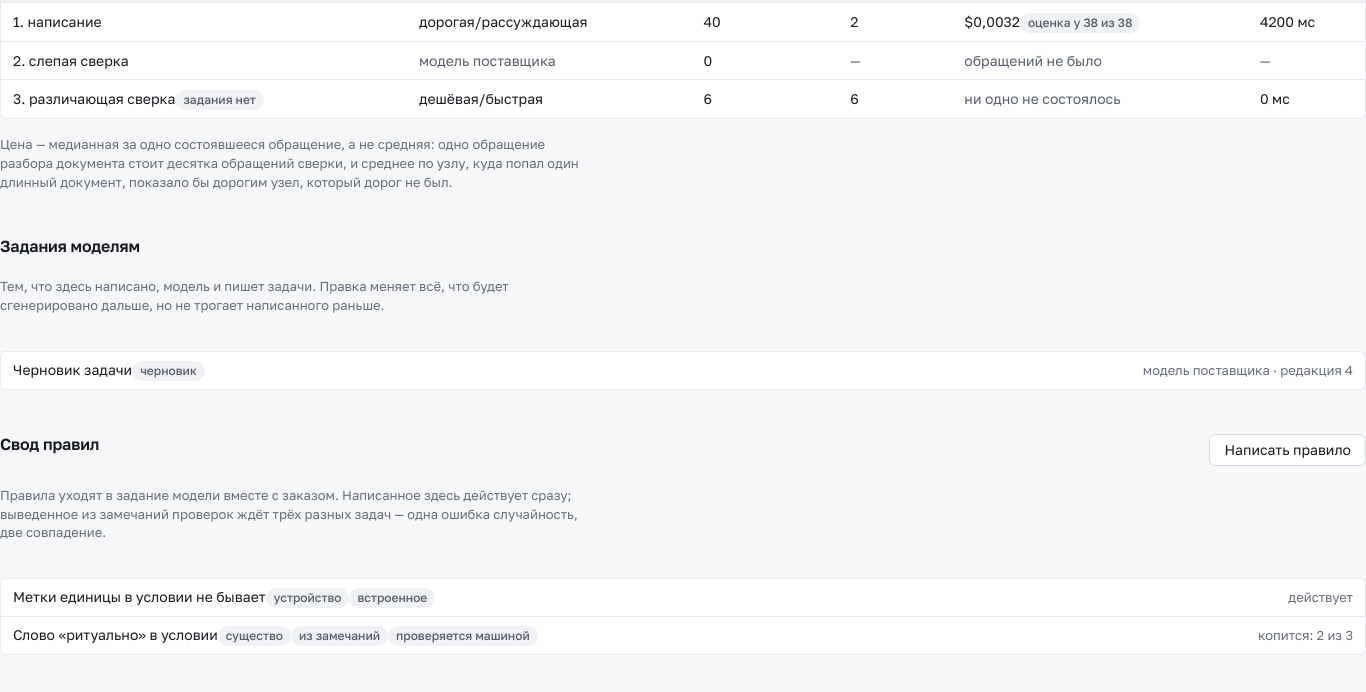
Test case: мастерская › набранное переживает закрытие вкладки
The width and height of the screenshot is (1366, 692).
Earlier steps of the test are not shown.
(page scrolled)
Click the text "Черновик задачи": coordinates (109, 370) [13,360,205,381]
(page scrolled)
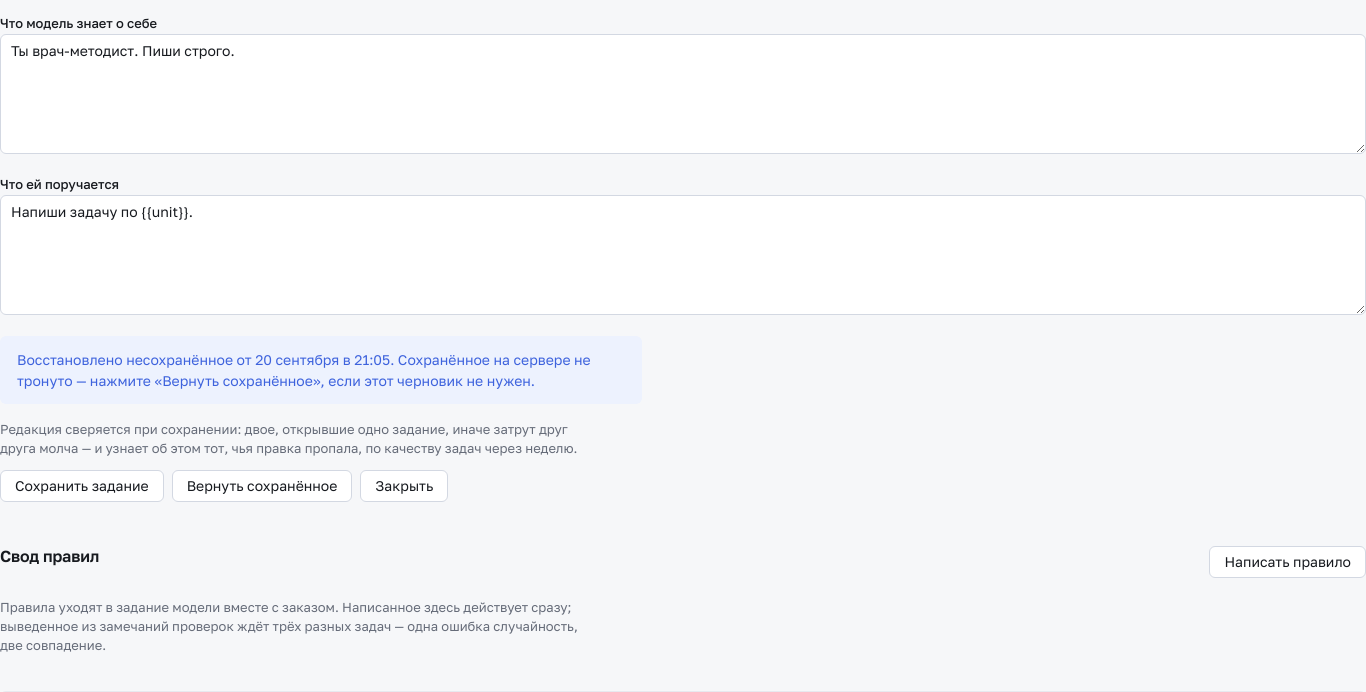
Now the text box showing "Ты врач-методист. Пиши строго." is shown, box [0,34,1365,154]
Now the text "Восстановлено несохранённое" is shown, box [17,351,255,368]
